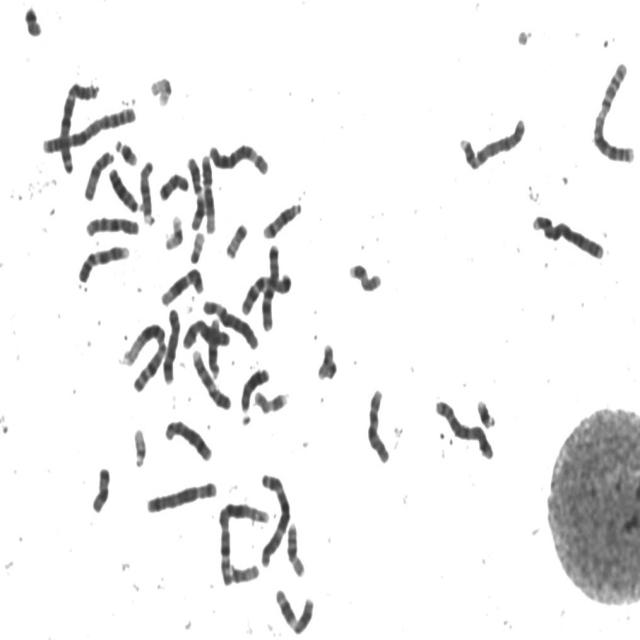A1: (214, 496, 272, 586), (119, 316, 169, 394)
A2: (39, 100, 138, 155), (590, 56, 638, 164)
A3: (56, 75, 101, 175), (256, 467, 293, 568)
B4: (456, 111, 528, 172), (529, 208, 606, 261)
B5: (432, 393, 496, 461), (143, 476, 219, 515)
C10: (364, 383, 392, 465), (83, 210, 141, 238)
C11: (272, 583, 316, 636), (184, 150, 207, 232)
C12: (158, 262, 206, 308), (198, 149, 218, 235)
C6: (199, 293, 260, 352), (206, 136, 271, 177)
C7: (238, 265, 293, 317), (258, 237, 282, 333)
C8: (162, 413, 214, 462), (160, 303, 182, 385)
C9: (188, 343, 234, 412), (75, 239, 131, 284)
D13: (105, 162, 142, 213), (238, 362, 272, 414)
D14: (260, 196, 304, 240), (205, 312, 222, 381)
D15: (80, 144, 117, 202), (136, 154, 157, 228)
E16: (284, 516, 307, 579), (228, 560, 262, 583)
E17: (346, 257, 384, 294), (250, 384, 290, 416)
E18: (88, 461, 112, 515), (156, 165, 191, 202)
F19: (146, 69, 174, 108), (162, 208, 186, 252)
F20: (222, 216, 250, 260), (314, 338, 338, 382)
G21: (112, 132, 140, 168), (474, 392, 498, 429)
G22: (130, 422, 148, 469), (186, 226, 206, 264)
X: (180, 313, 232, 350)
Y: (22, 6, 42, 38)
